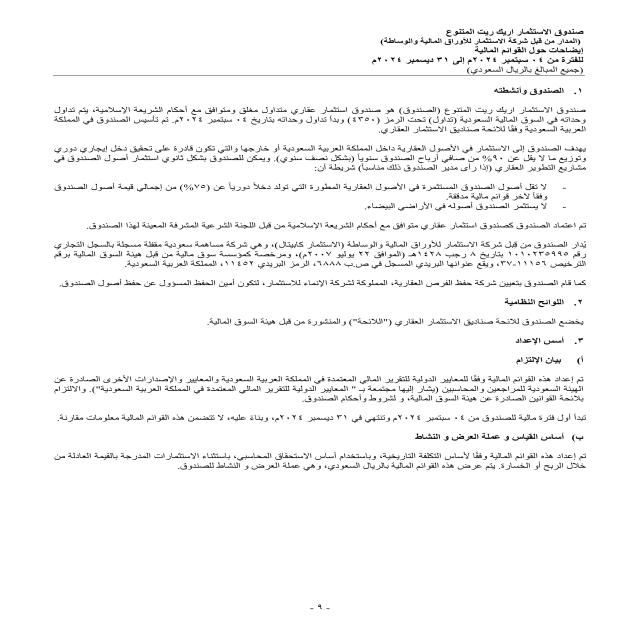notes: (466, 47, 608, 59)
text: (32, 81, 600, 498)
